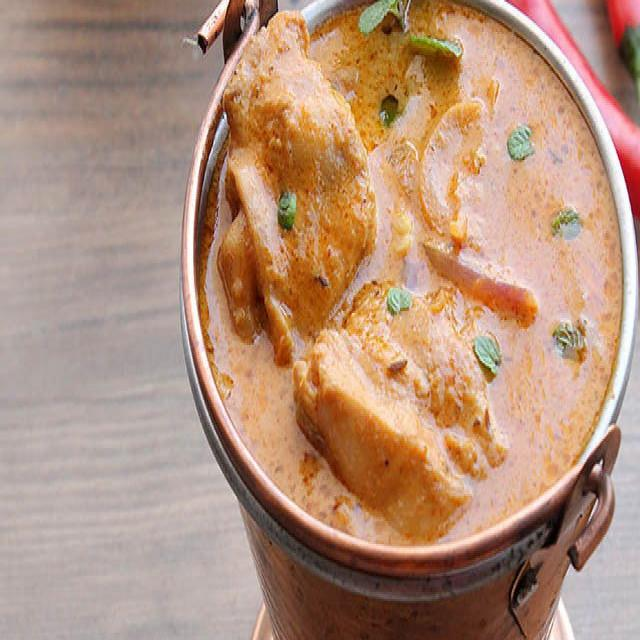chicken: (204, 15, 620, 530)
